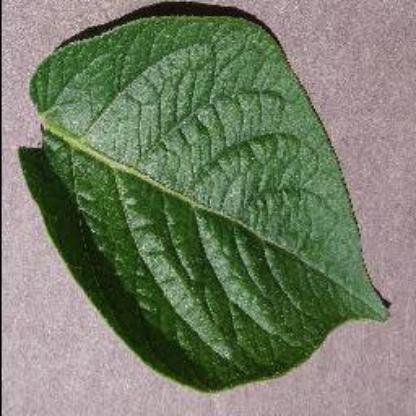Healthy-plant: (28, 14, 388, 392)
